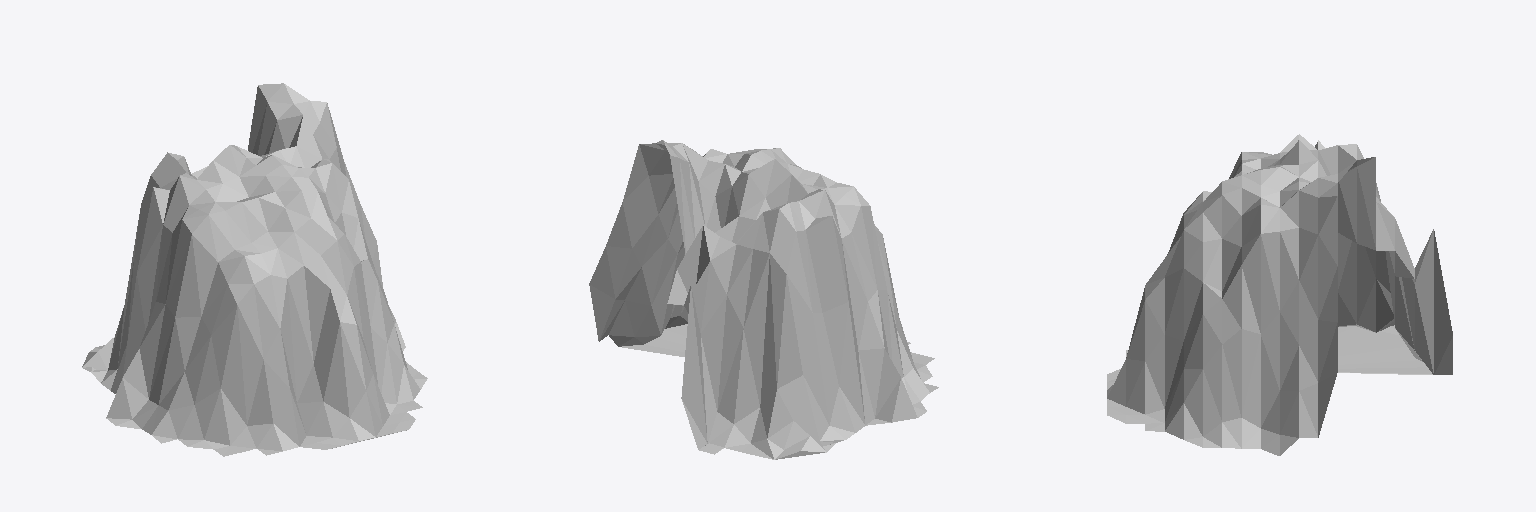
File: tree_42.obj
3 renders of one model, left to right at view 1: azimuth 30°, elevation 25°; view 2: azimuth 150°, elevation 25°; view 3: azimuth 270°, elevation 25°, orthographic.
Parts seen in each view (by area): view 1: tree_42; view 2: tree_42; view 3: tree_42.
Part boxes in pixels (bbox=[...]): tree_42: bbox=[82, 83, 427, 456]; tree_42: bbox=[589, 140, 938, 459]; tree_42: bbox=[1107, 134, 1452, 455].
Bounding box in the file's own units: 18 × 14.7 × 18.